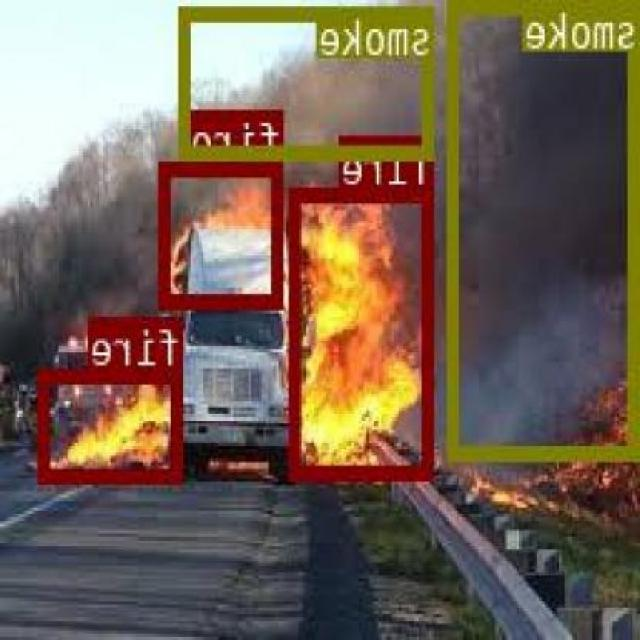Fire: (294, 184, 437, 478), (162, 159, 286, 307), (40, 368, 186, 482)
Smoke: (449, 0, 640, 455), (182, 5, 436, 158)
